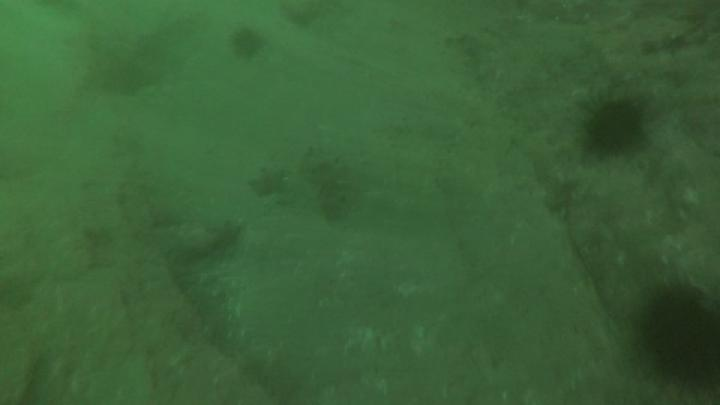echinus: (645, 289, 720, 394), (590, 105, 643, 155), (234, 29, 264, 58)
holothurian: (513, 131, 570, 212), (303, 147, 356, 223)
starfish: (249, 166, 286, 196)
